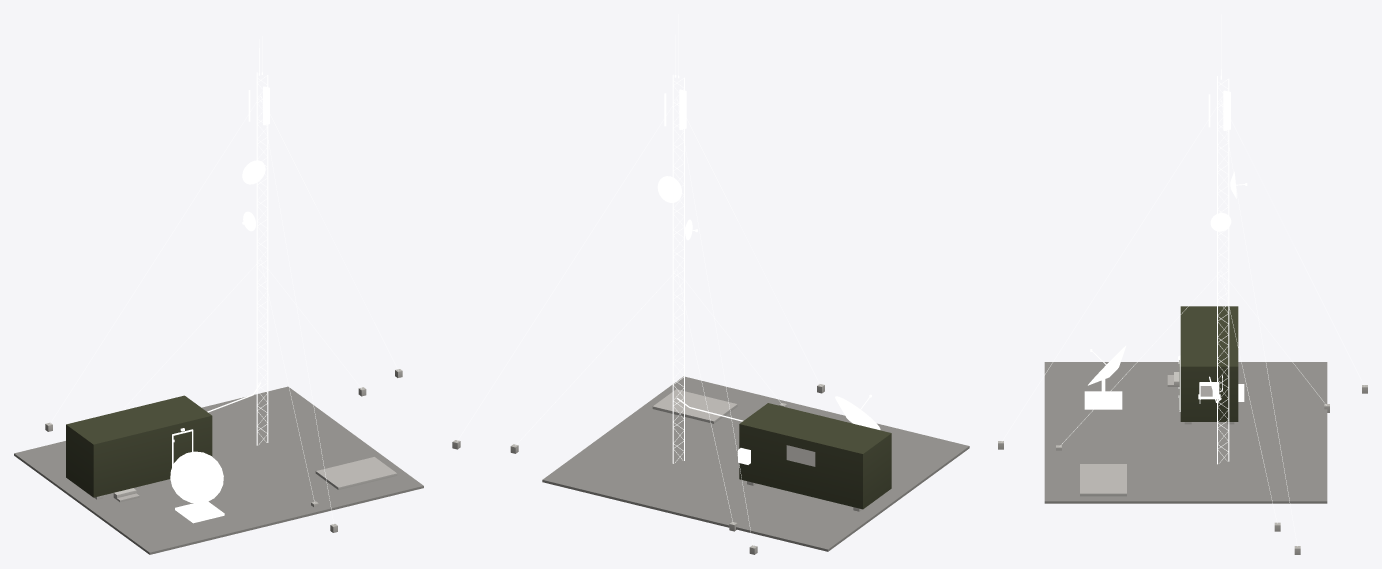
The model's file is comms_station.glb.
The picture shows the model from 3 angles, left to right: view 1: azimuth 30°, elevation 25°; view 2: azimuth 150°, elevation 25°; view 3: azimuth 270°, elevation 25°; orthographic projection. The views are drawn at different scales.
Parts seen in each view (by area): view 1: comms_station_LOD0; view 2: comms_station_LOD0; view 3: comms_station_LOD0.
Boxes of the visible parts, bbox=[...] form: comms_station_LOD0: bbox=[14, 36, 423, 554]; comms_station_LOD0: bbox=[452, 14, 969, 554]; comms_station_LOD0: bbox=[998, 14, 1367, 554].
Size of what is drawn, in the model's own units: 19.05 by 21.1 by 15.71.
